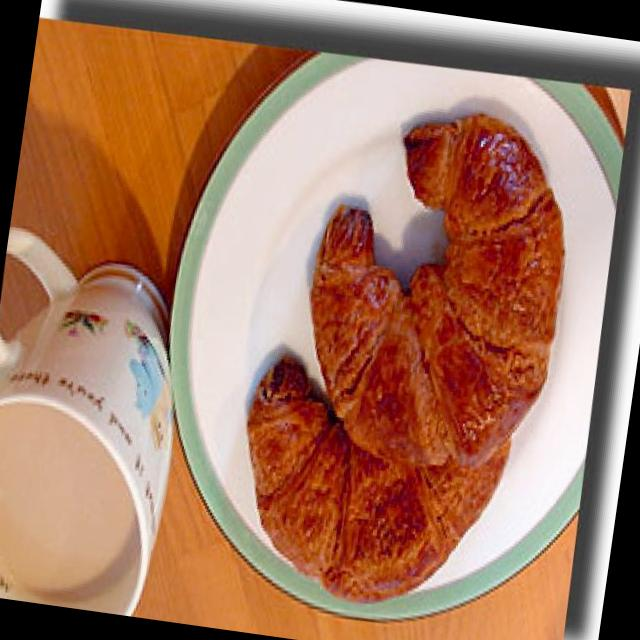Croissant: (268, 92, 592, 496)
